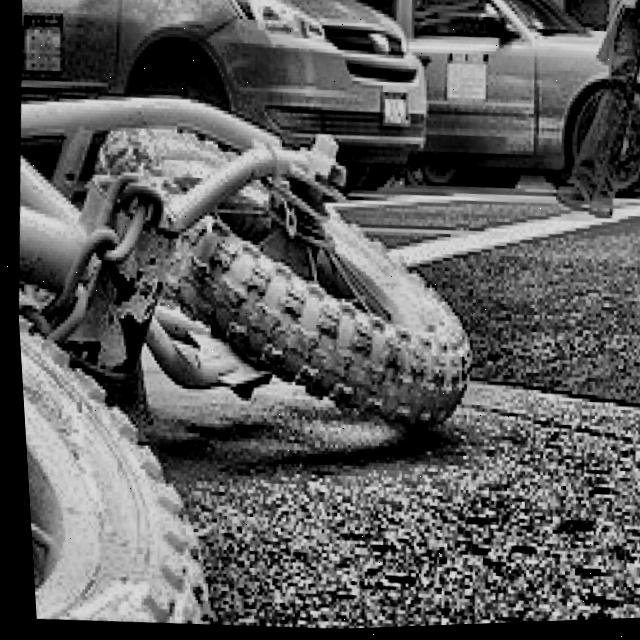light_vehicle: (8, 0, 439, 217), (287, 0, 640, 216)
